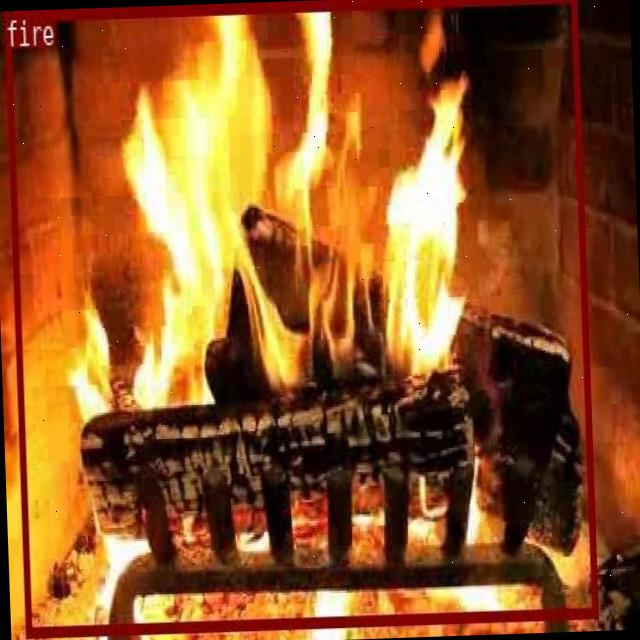fire: (3, 0, 596, 634)
